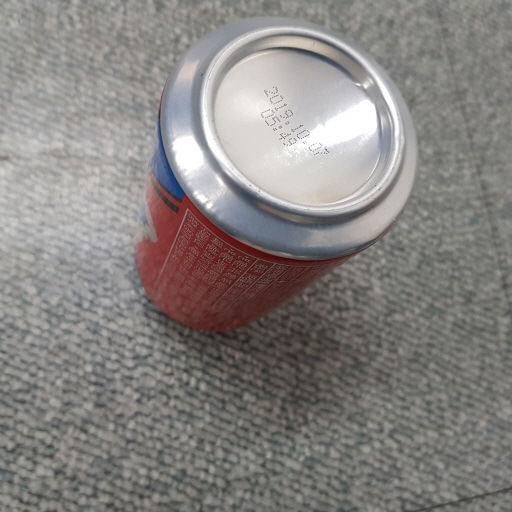Metal_0: (134, 12, 421, 342)
